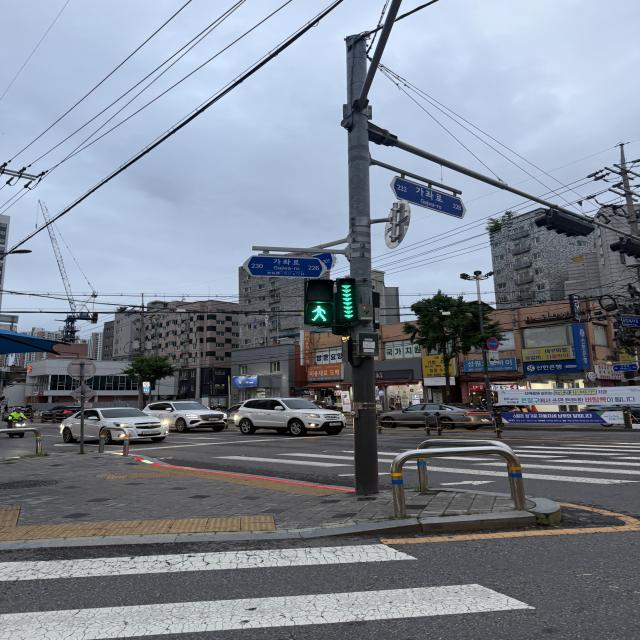car: (234, 388, 350, 443), (49, 403, 175, 450), (370, 398, 504, 433), (137, 397, 237, 437)
